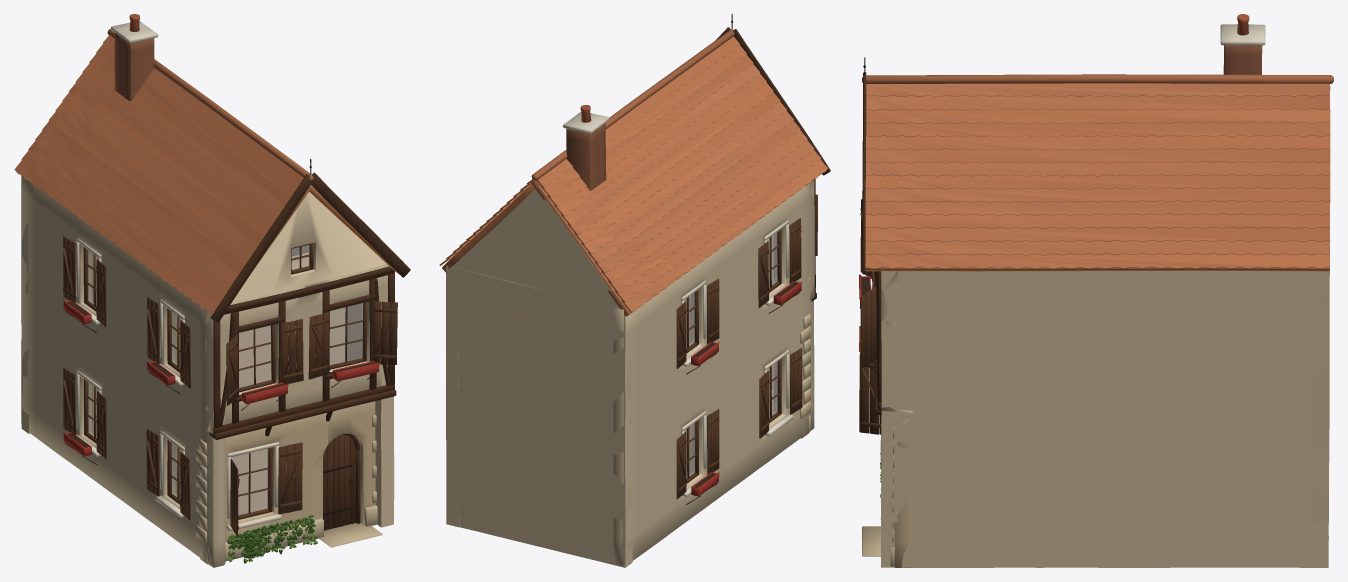
The model's file is StraightEnd_Outer5.glb.
3 renders of one model, left to right at view 1: azimuth 30°, elevation 25°; view 2: azimuth 150°, elevation 25°; view 3: azimuth 270°, elevation 25°, orthographic. The views are drawn at different scales.
Parts seen in each view (by area): view 1: Sammel Putz, Sammel Stein, Sammel Holz, Sammel Quader, Glas, Sammel Putz innen, Sammel Lack, Sammel Ziegel, Sammel Pflanze; view 2: Sammel Putz, Sammel Stein, Sammel Holz, Sammel Ziegel, Glas, Sammel Lack, Sammel Putz innen; view 3: Sammel Putz, Sammel Stein, Sammel Holz, Sammel Ziegel, Sammel Quader.
Part boxes in pixels (<box>): Sammel Putz: <box>21,14,394,567</box>; Sammel Stein: <box>14,28,399,565</box>; Sammel Holz: <box>62,172,410,536</box>; Sammel Quader: <box>199,401,375,564</box>; Glas: <box>88,245,362,515</box>; Sammel Putz innen: <box>92,252,361,514</box>; Sammel Lack: <box>63,300,379,456</box>; Sammel Ziegel: <box>114,33,154,101</box>; Sammel Pflanze: <box>226,514,317,563</box>; Sammel Putz: <box>446,104,814,567</box>; Sammel Stein: <box>439,29,827,432</box>; Sammel Holz: <box>676,27,830,499</box>; Sammel Ziegel: <box>566,123,606,190</box>; Glas: <box>684,232,777,478</box>; Sammel Lack: <box>691,281,802,496</box>; Sammel Putz innen: <box>684,235,773,476</box>; Sammel Putz: <box>861,14,1329,567</box>; Sammel Stein: <box>862,74,1333,566</box>; Sammel Holz: <box>859,72,881,434</box>; Sammel Ziegel: <box>1223,45,1262,74</box>; Sammel Quader: <box>894,410,912,567</box>.
Size of the model in its own units: 5.14 by 10.08 by 8.75.
